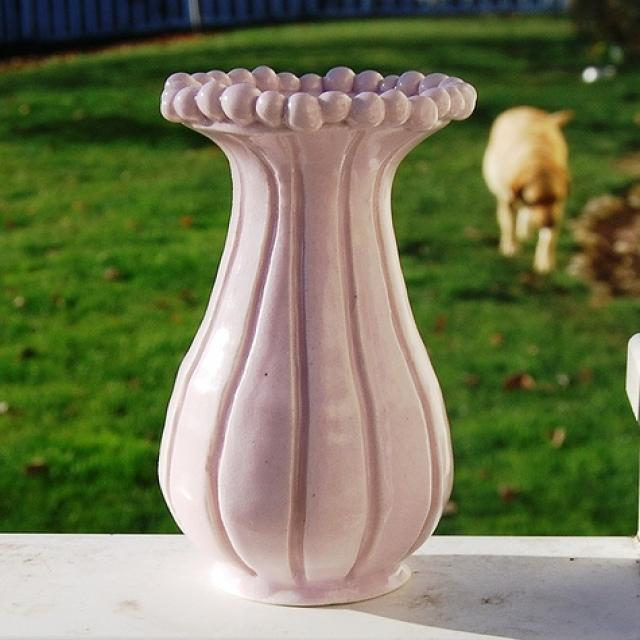dog: (477, 96, 566, 273)
